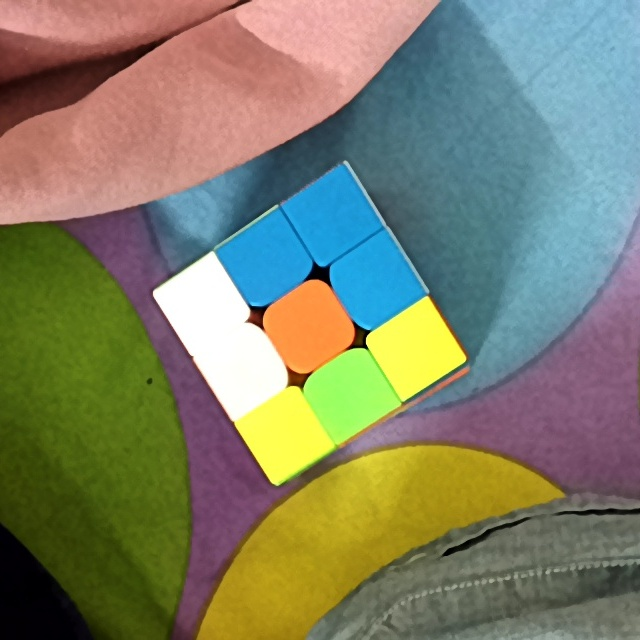tile: (349, 253, 402, 309), (282, 299, 335, 352), (304, 191, 356, 244), (243, 234, 295, 284), (388, 326, 440, 375), (215, 340, 268, 388), (322, 368, 369, 421), (177, 279, 227, 326), (258, 413, 306, 459)
